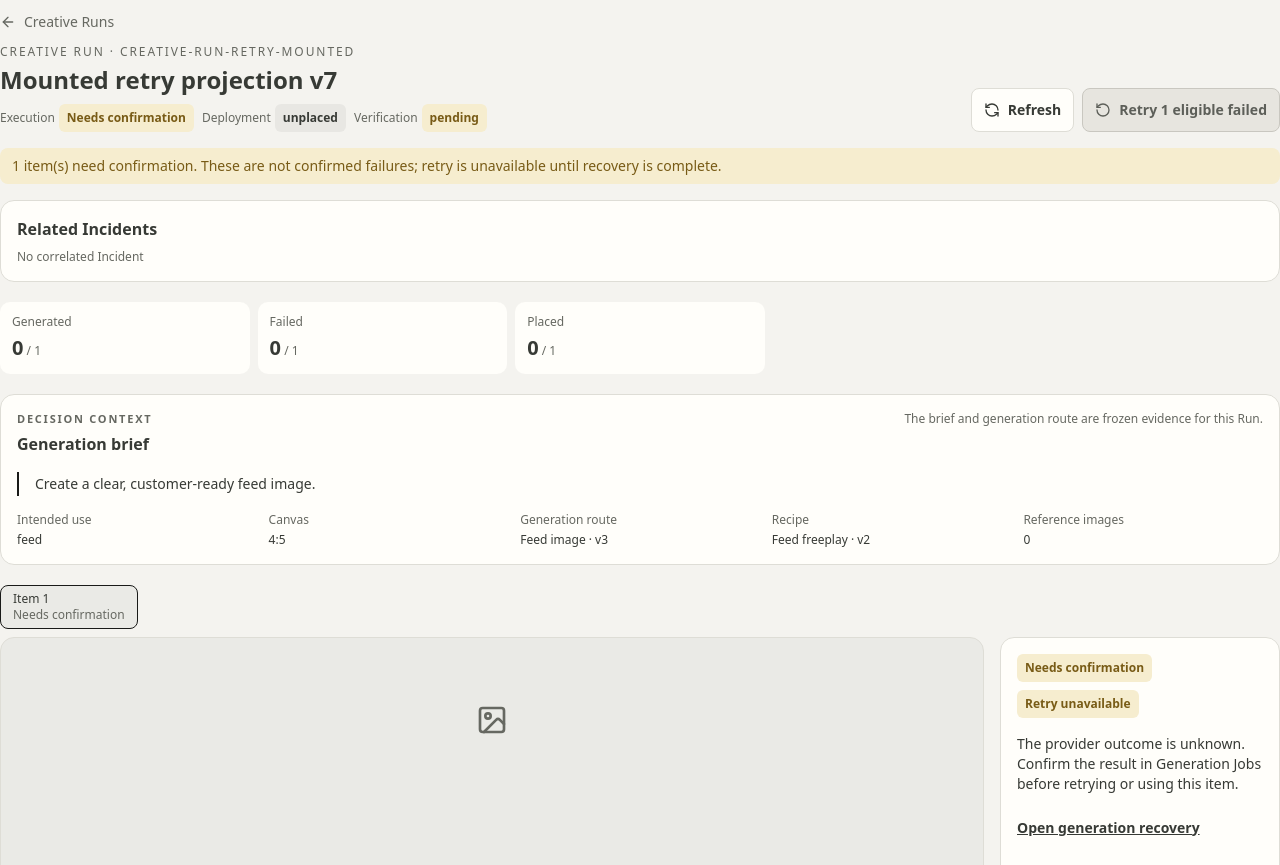
it: Creative Run asynchronous retry command › shows unknown generation consistently and opens the exact recovery request without submitting a retry
Expected: the text "No valid artifact" is not shown
Expected: the button "Item 1Needs confirmation" is shown, [0, 584, 138, 628]
Click the button "Refresh" at x=1023, y=110, box [971, 88, 1074, 132]
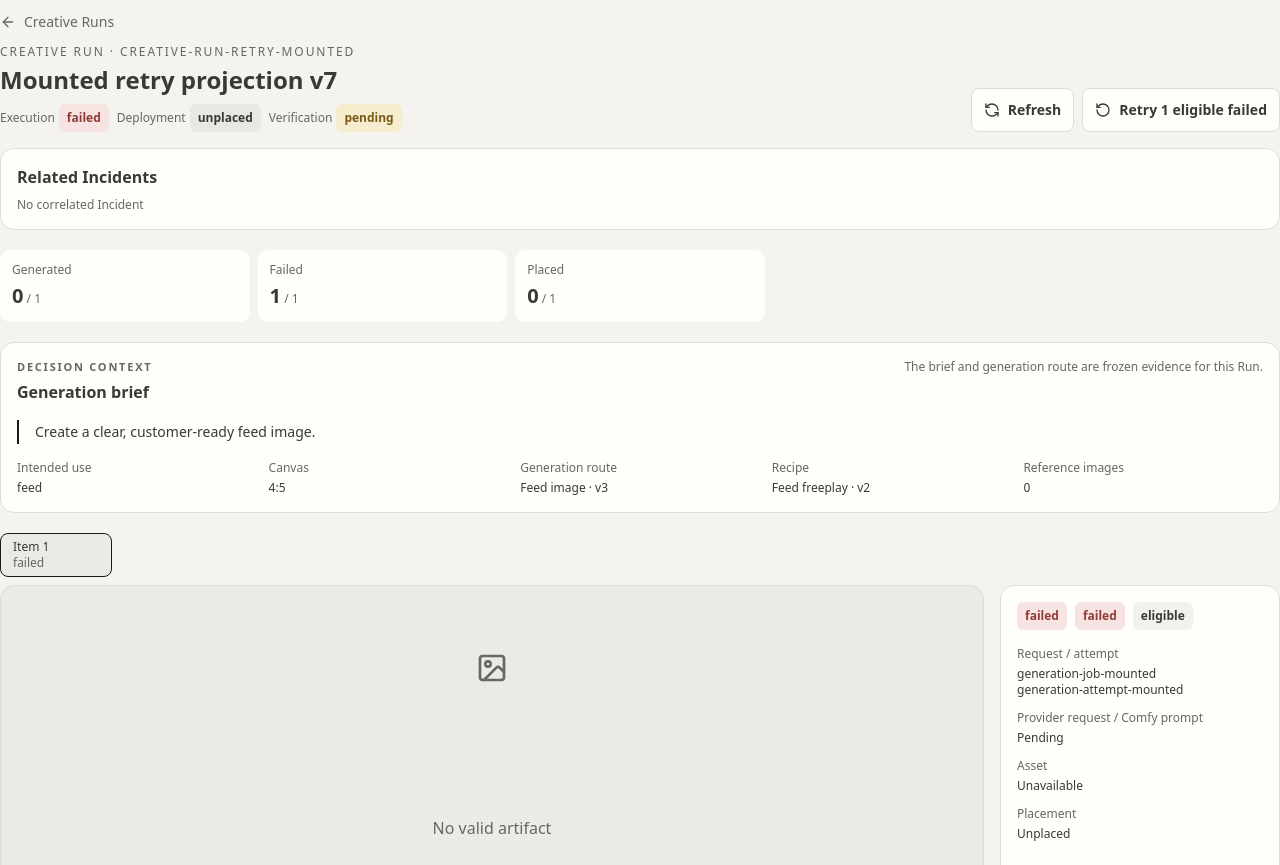
Expected: the text "Needs confirmation" is gone
Expected: the button "Retry 1 eligible failed" is enabled, [1082, 88, 1279, 132]
